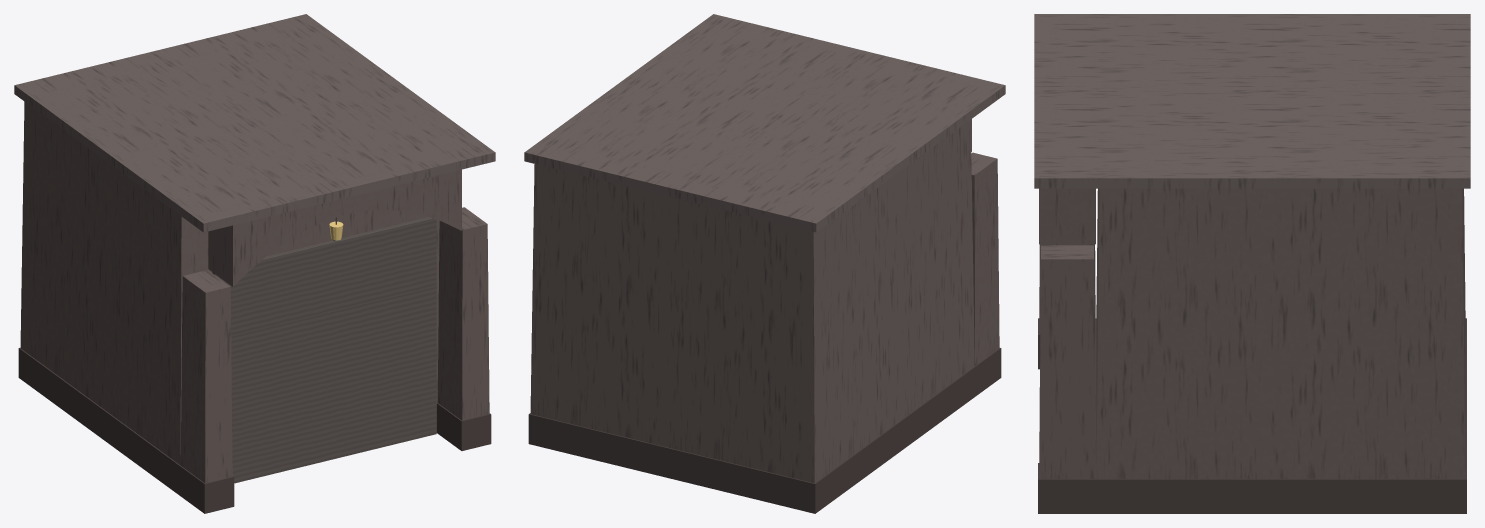
File: SM_Souq_Stall_W4D45H38.fbx
3 views of the same model, side by side, from view 1: azimuth 30°, elevation 25°; view 2: azimuth 150°, elevation 25°; view 3: azimuth 270°, elevation 25° (orthographic). The views are drawn at different scales.
Parts seen in each view (by area): view 1: SM_Souq_Stall_W4D45H38; view 2: SM_Souq_Stall_W4D45H38; view 3: SM_Souq_Stall_W4D45H38.
Part boxes in pixels (box(x1,y1,x2,y2)): SM_Souq_Stall_W4D45H38: box(14, 14, 495, 513); SM_Souq_Stall_W4D45H38: box(524, 14, 1005, 513); SM_Souq_Stall_W4D45H38: box(1034, 14, 1470, 513).
Size of the model in its own units: 410 by 392 by 460.
Materials: 6 (6 with a texture image).
